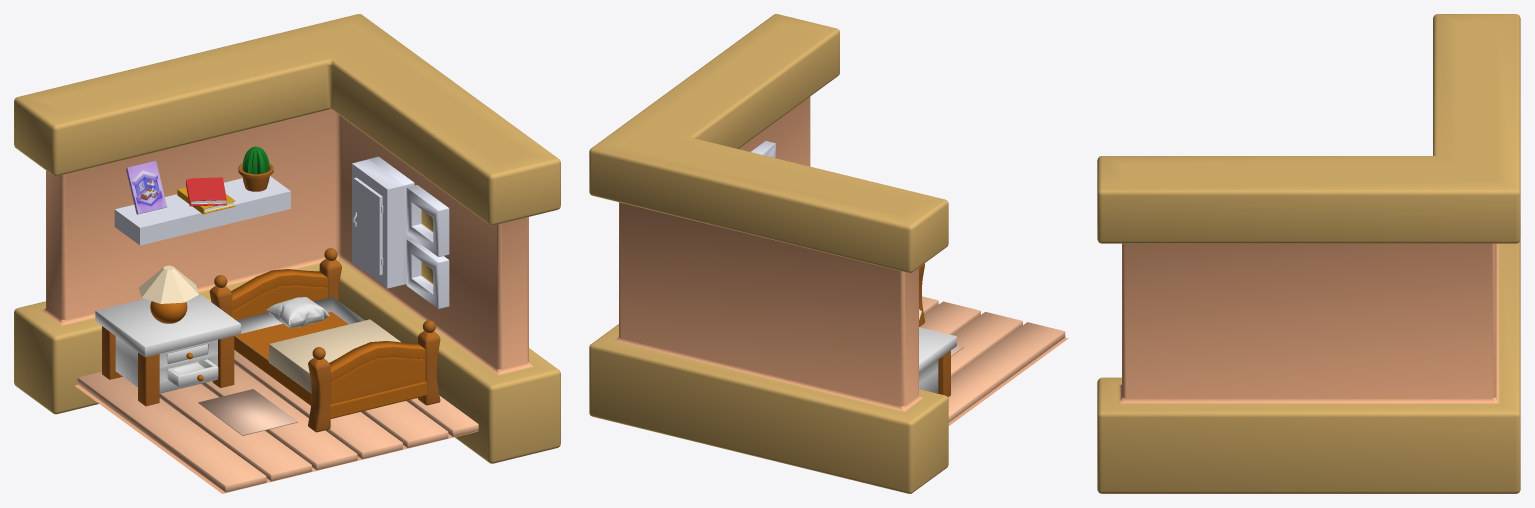
Rendered from uploads_files_4529391_3D+Isometric+BEDROOM.glb.
3 renders of one model, left to right at view 1: azimuth 30°, elevation 25°; view 2: azimuth 150°, elevation 25°; view 3: azimuth 270°, elevation 25°, orthographic. The views are drawn at different scales.
Visible parts, largest first — view 1: Cube, Plane.001, Cube.001, Plane.008, Plane.003, Cube.002, Plane.004, Plane.002, Plane.006, Plane.009, Plane.011, Cube.005 (+7 smaller); view 2: Cube, Plane.001, Plane.008, Plane.009; view 3: Cube.
Part boxes in pixels (x1,y1,x2,y2): Cube: (14, 14, 560, 463); Plane.001: (77, 350, 478, 492); Cube.001: (352, 156, 449, 308); Plane.008: (95, 293, 240, 393); Plane.003: (231, 269, 425, 404); Cube.002: (114, 176, 290, 245); Plane.004: (209, 248, 440, 432); Plane.002: (234, 311, 426, 418); Plane.006: (268, 319, 400, 393); Plane.009: (102, 326, 234, 406); Plane.011: (198, 389, 297, 435); Cube.005: (353, 177, 382, 274); Cube: (589, 14, 948, 493); Plane.001: (919, 296, 1065, 422); Plane.008: (919, 327, 956, 393); Plane.009: (937, 350, 950, 397); Cube: (1097, 14, 1520, 493).
Size of the model in its own units: 2.52 by 2 by 2.52.
Materials: 14 (1 with a texture image).
